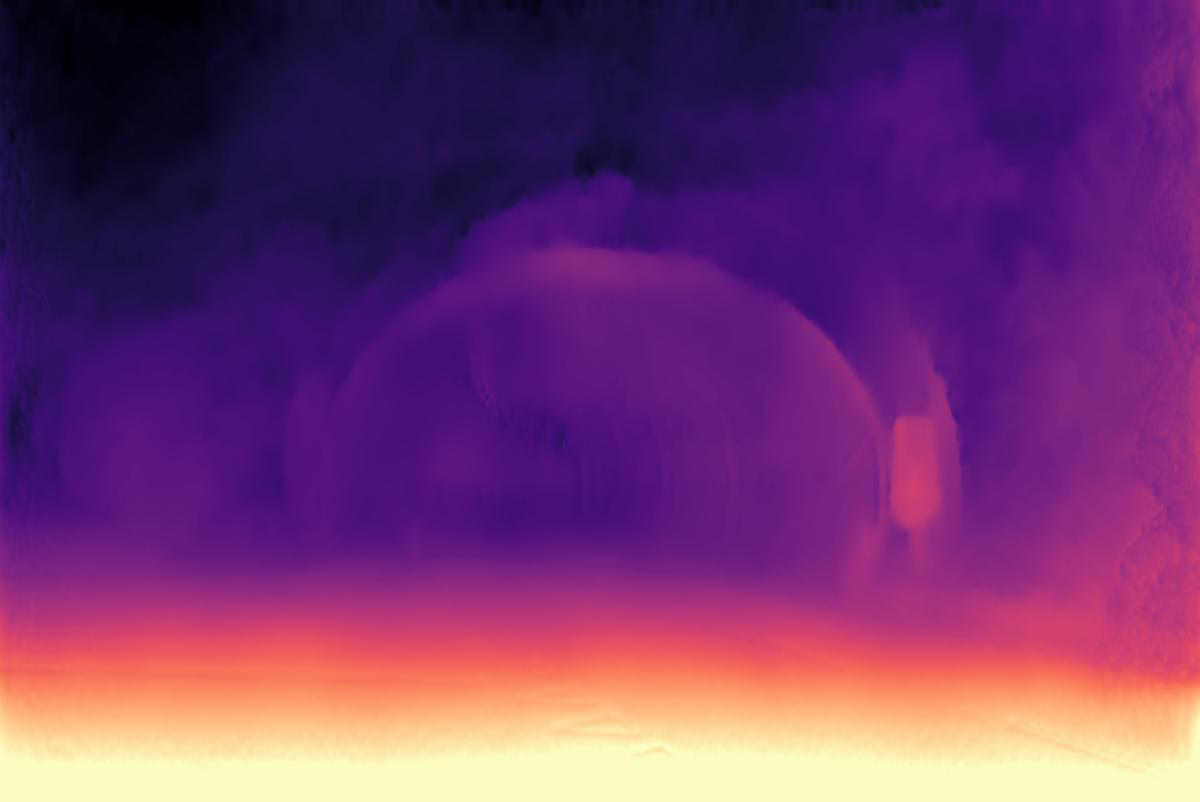Real_Tunnel: (316, 244, 913, 608)
